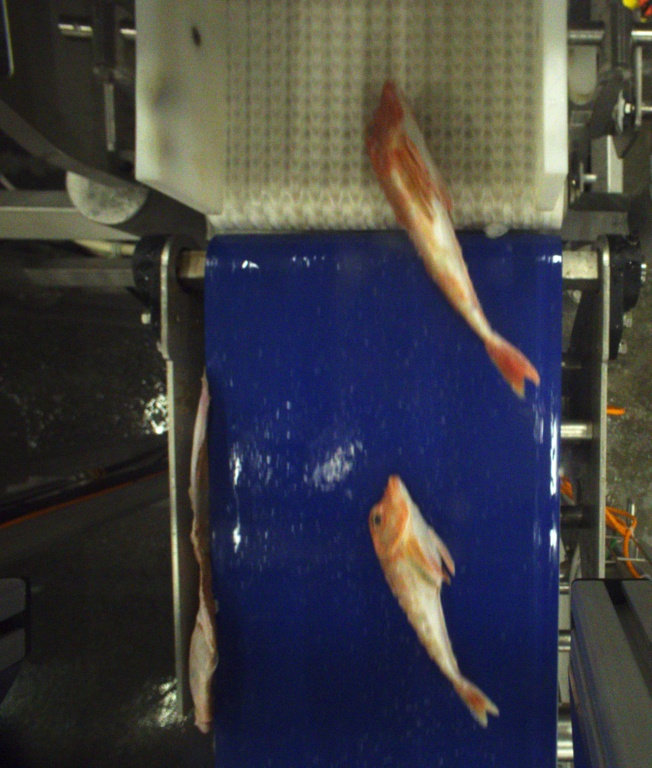GUU: (365, 82, 539, 398)
